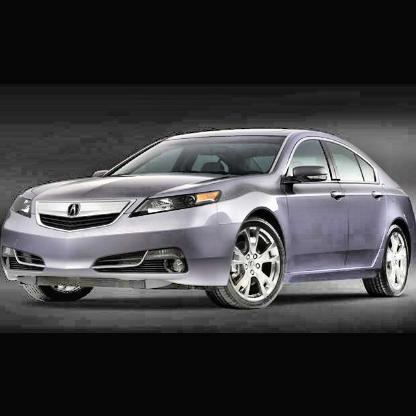Acura TL Sedan 2012: (2, 128, 416, 311)
